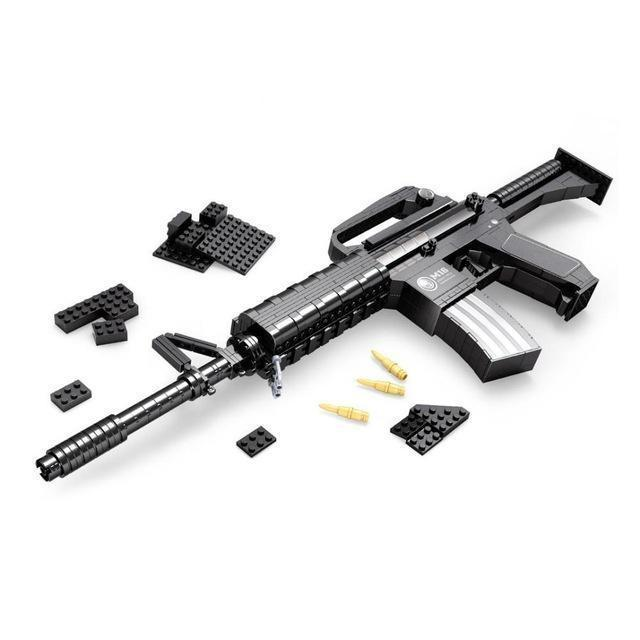Rifle: (38, 150, 612, 483)
